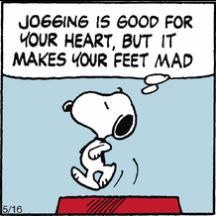snoopy: (62, 86, 138, 190)
